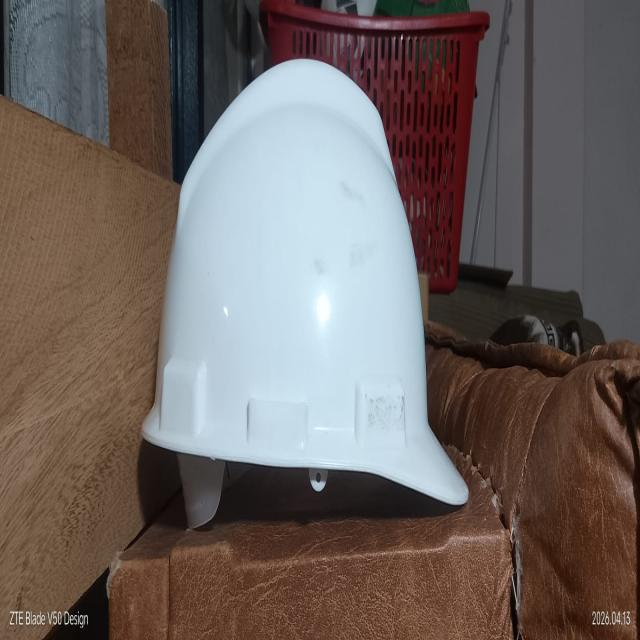casco: (128, 51, 469, 546)
